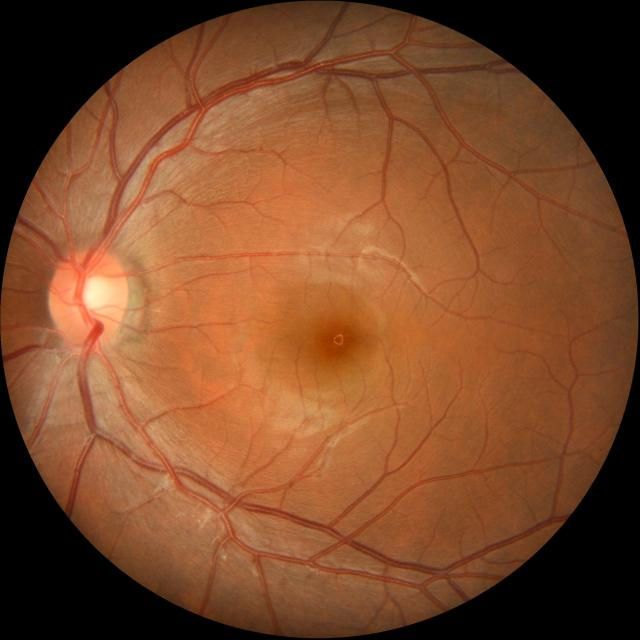OC: (77, 276, 112, 320)
OD: (48, 250, 128, 346)
